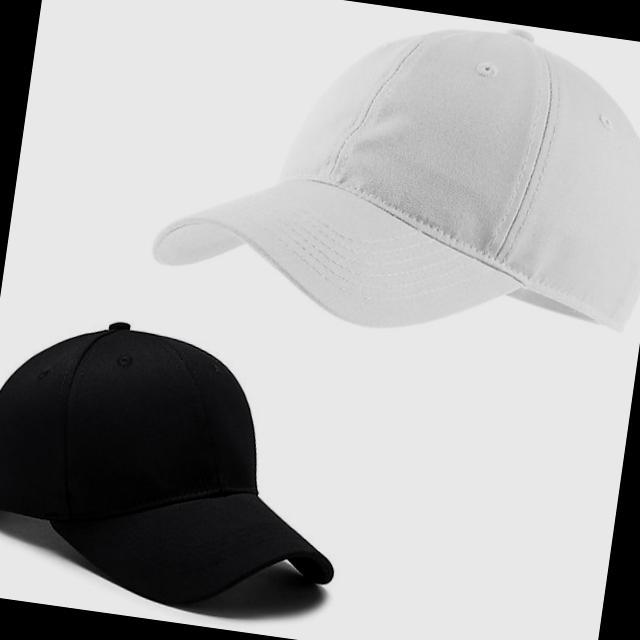cap: (125, 0, 640, 370), (0, 290, 423, 640)
